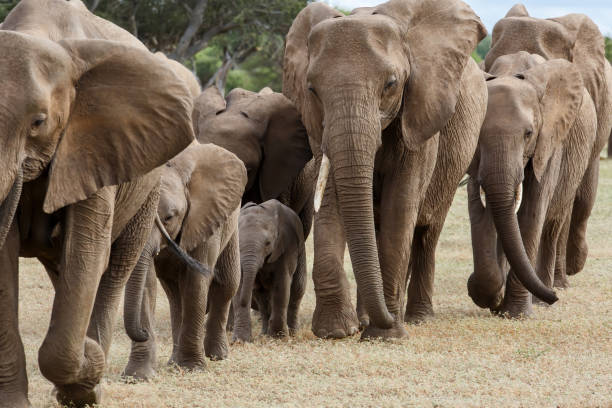africanelephant: (293, 19, 419, 226)
